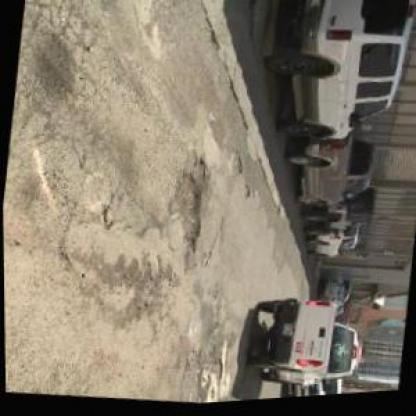pothole: (170, 176, 210, 257), (187, 157, 211, 183), (212, 358, 229, 385)
